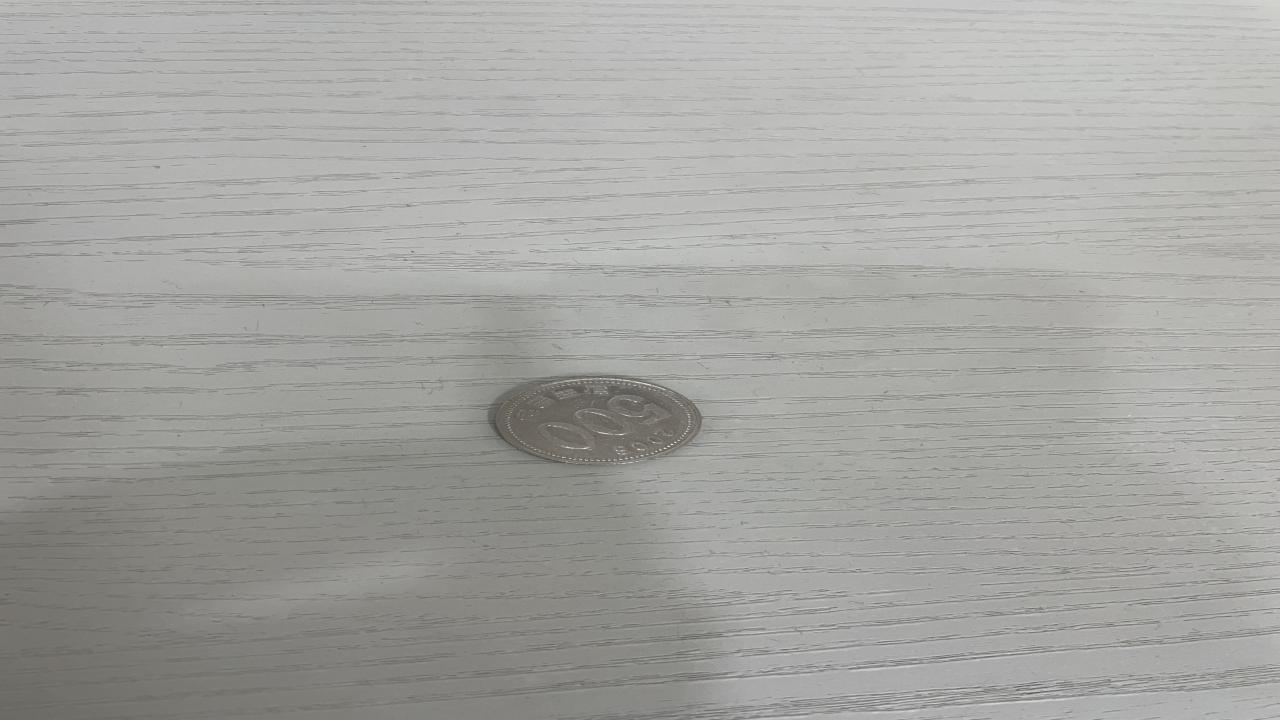coin: (485, 375, 709, 465)
